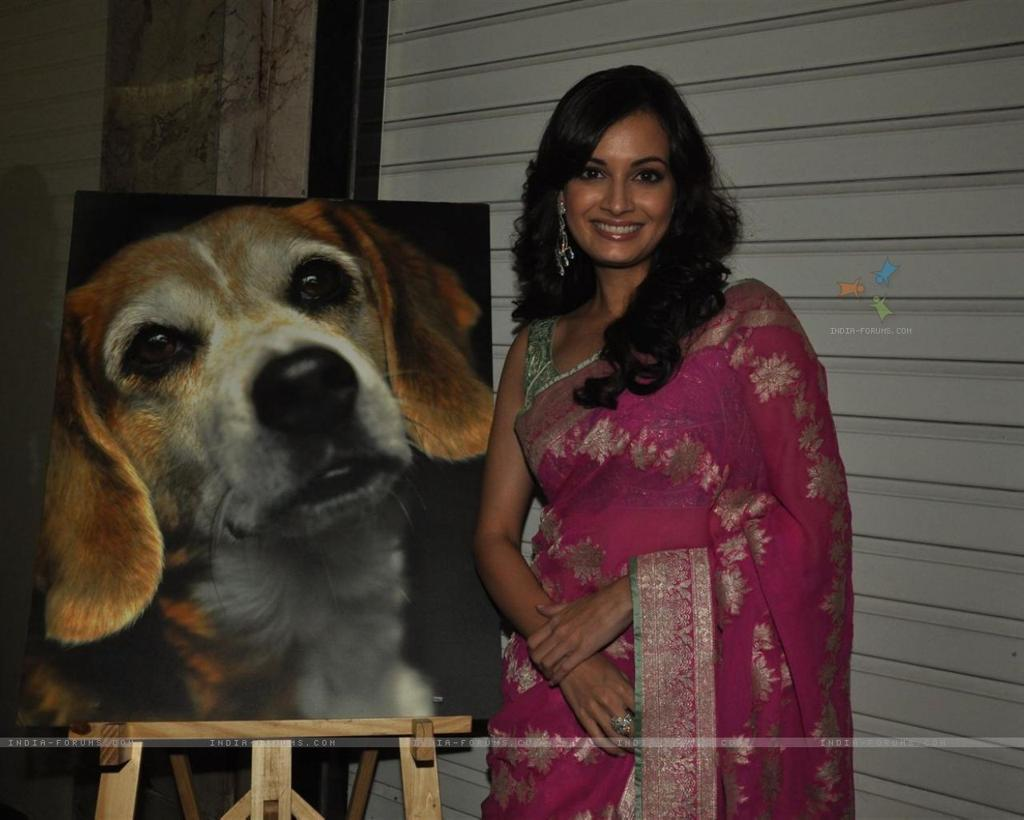face: (567, 107, 677, 261)
